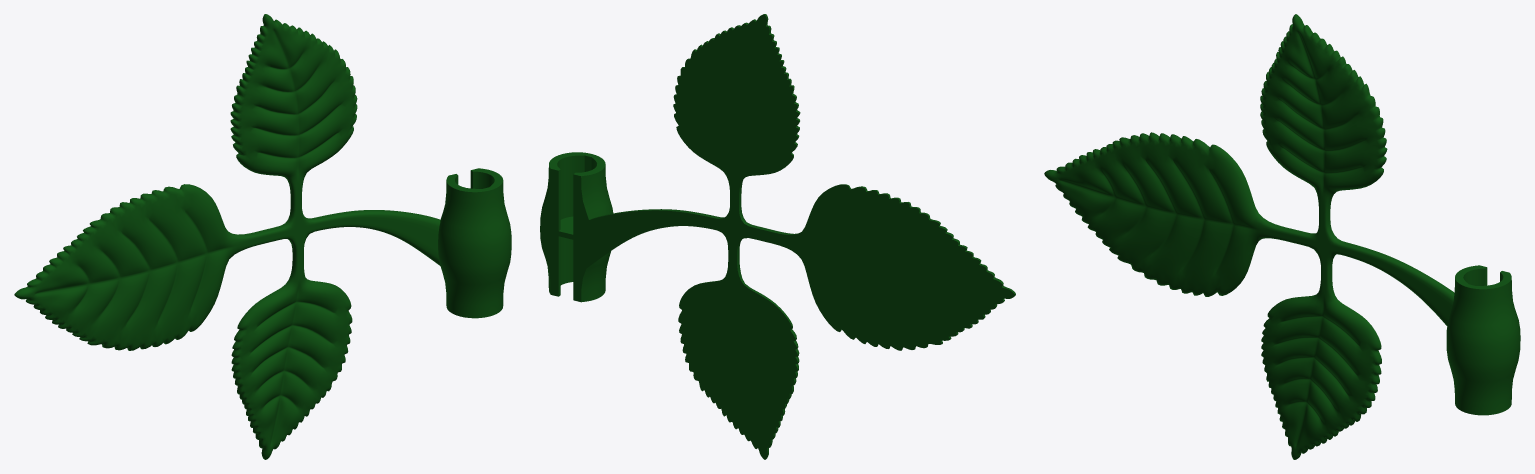
The model's file is c_rose_leaf_b_l.glb.
3 renders of one model, left to right at view 1: azimuth 30°, elevation 25°; view 2: azimuth 150°, elevation 25°; view 3: azimuth 330°, elevation 25°, orthographic.
Parts seen in each view (by area): view 1: rose_leaf_b_l, connector; view 2: rose_leaf_b_l, connector; view 3: rose_leaf_b_l, connector.
Boxes of the visible parts, x1=… form: rose_leaf_b_l: x1=14, y1=14, x2=440, y2=459; connector: x1=438, y1=168, x2=511, y2=318; rose_leaf_b_l: x1=586, y1=14, x2=1015, y2=459; connector: x1=540, y1=152, x2=613, y2=302; rose_leaf_b_l: x1=1044, y1=14, x2=1454, y2=459; connector: x1=1446, y1=265, x2=1520, y2=415.
Bounding box in the file's own units: 0.0999 × 0.0883 × 0.0107.
